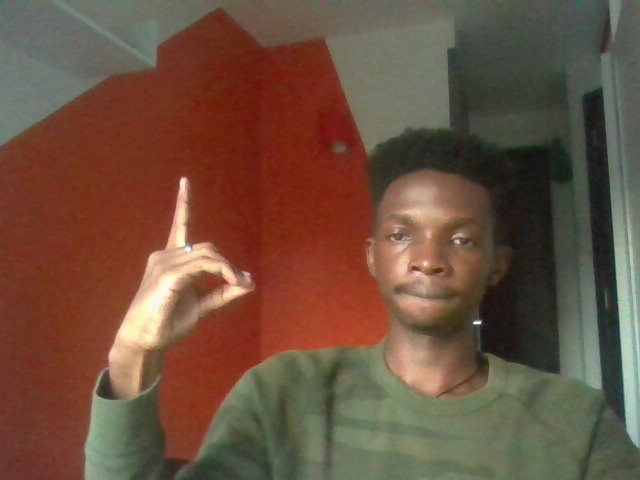KSL-D: (118, 174, 259, 350)
